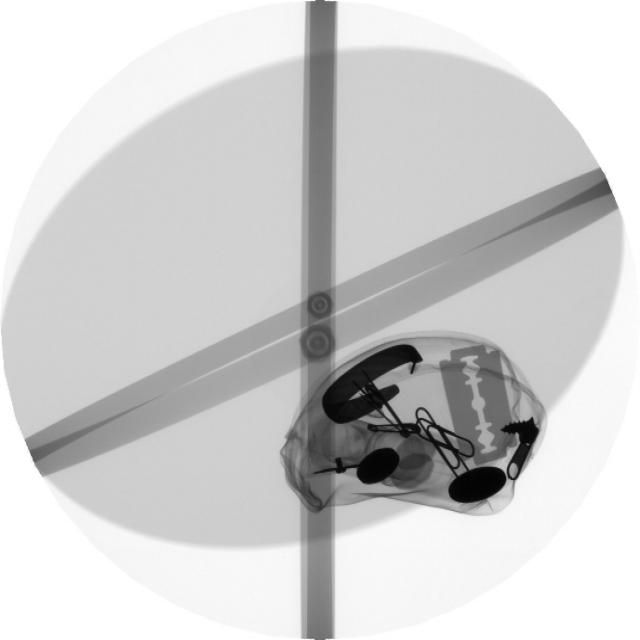BLADE: (434, 339, 523, 462)
